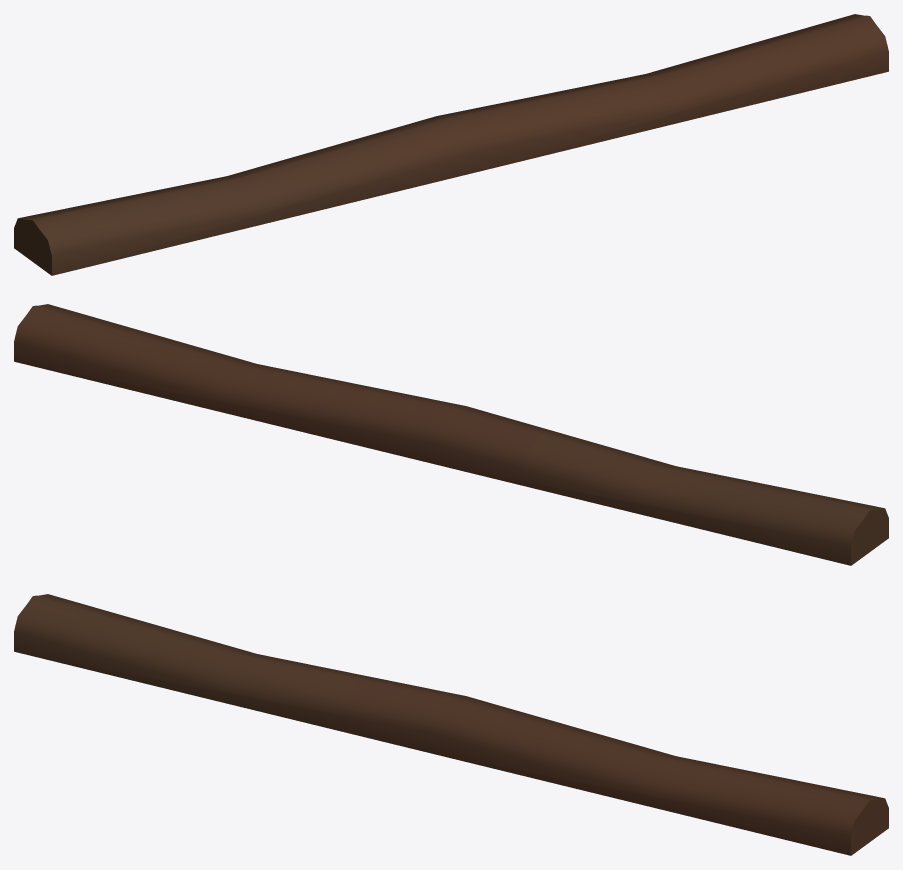
File: DirtBikeTrackBarrier.glb
The picture shows the model from 3 angles, top to bottom: view 1: azimuth 30°, elevation 25°; view 2: azimuth 150°, elevation 25°; view 3: azimuth 330°, elevation 25°; orthographic projection.
Visible parts, largest first — view 1: DirtBikeTrackBarrier; view 2: DirtBikeTrackBarrier; view 3: DirtBikeTrackBarrier.
Boxes of the visible parts, x1,y1,x2,y2 form: DirtBikeTrackBarrier: [14, 14, 888, 275]; DirtBikeTrackBarrier: [14, 304, 888, 565]; DirtBikeTrackBarrier: [14, 594, 888, 855].
Bounding box in the file's own units: 8 × 0.3824 × 0.6262.
1 material, 1 textured.
